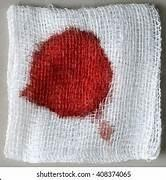cotton: (5, 4, 160, 162), (21, 28, 112, 116)
